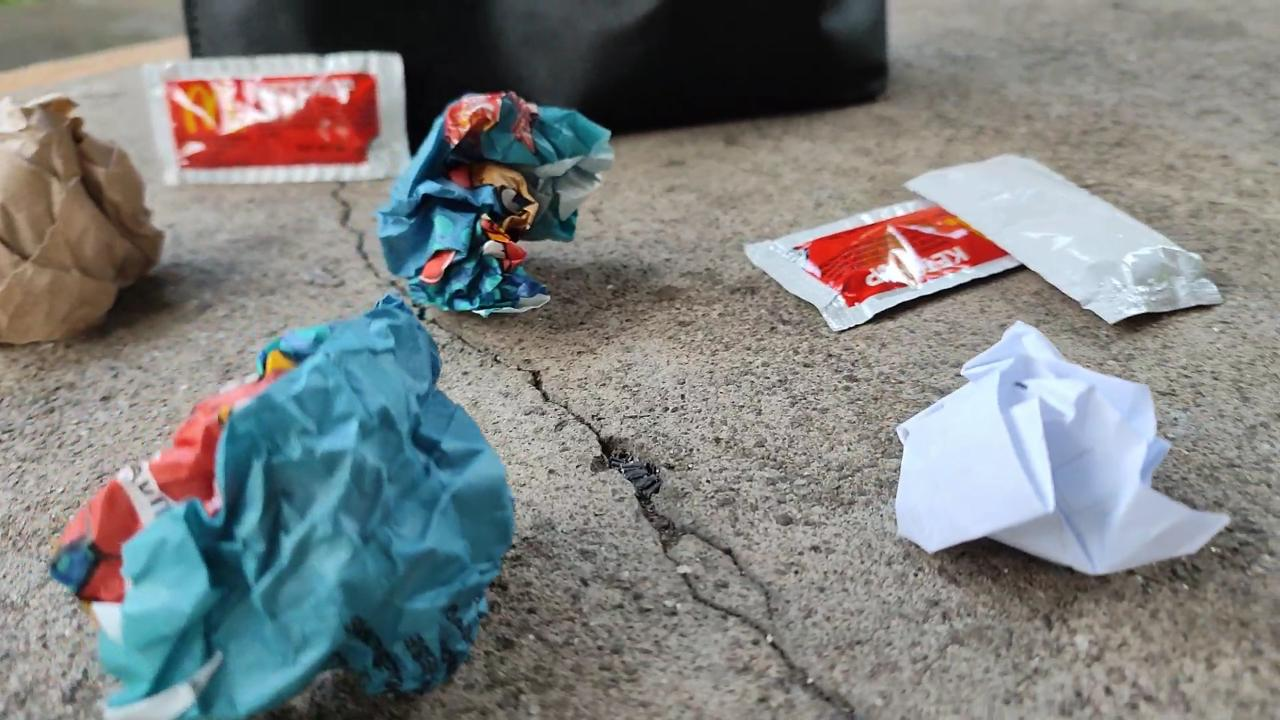Paper: (48, 294, 509, 720), (882, 321, 1233, 604), (374, 79, 614, 339), (0, 84, 160, 344)
